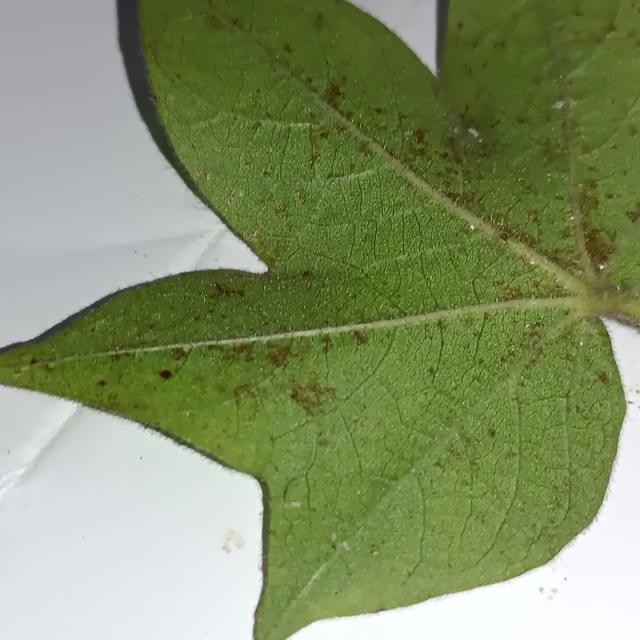Bacterial_Blight: (378, 117, 444, 171), (283, 376, 337, 414), (449, 108, 488, 151), (582, 231, 610, 266), (577, 191, 602, 224), (521, 322, 546, 350), (133, 323, 163, 346), (209, 280, 245, 299), (264, 345, 290, 367), (221, 529, 245, 552), (323, 82, 345, 107), (233, 384, 256, 404), (443, 189, 466, 206), (350, 329, 368, 347), (155, 364, 174, 381), (500, 286, 522, 300), (320, 335, 335, 354), (170, 346, 188, 361), (233, 343, 251, 357), (412, 127, 427, 143), (552, 98, 572, 110), (498, 228, 514, 242), (266, 248, 281, 262), (384, 470, 401, 482), (596, 371, 610, 384), (314, 12, 325, 28), (324, 171, 343, 180), (196, 168, 210, 180), (515, 114, 530, 125), (527, 210, 539, 223), (318, 129, 330, 141), (296, 189, 307, 202), (309, 153, 320, 166), (318, 437, 331, 448), (437, 318, 447, 332), (230, 17, 242, 28), (276, 202, 288, 213), (282, 43, 293, 54), (249, 234, 260, 245), (301, 270, 313, 280), (561, 477, 571, 489), (426, 366, 436, 377), (252, 121, 262, 132), (46, 361, 56, 371), (29, 357, 40, 366), (487, 427, 496, 438), (374, 607, 387, 614), (263, 169, 272, 178), (97, 379, 107, 387), (634, 124, 640, 136), (457, 21, 464, 30), (551, 588, 558, 595), (469, 224, 475, 230), (638, 389, 640, 394)
Cotton: (0, 0, 625, 639)
